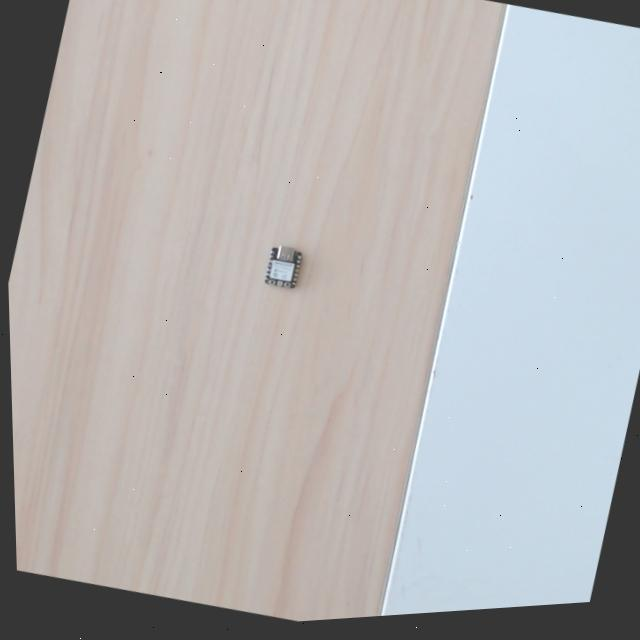ESP32C3-Xiao: (262, 240, 305, 290)
